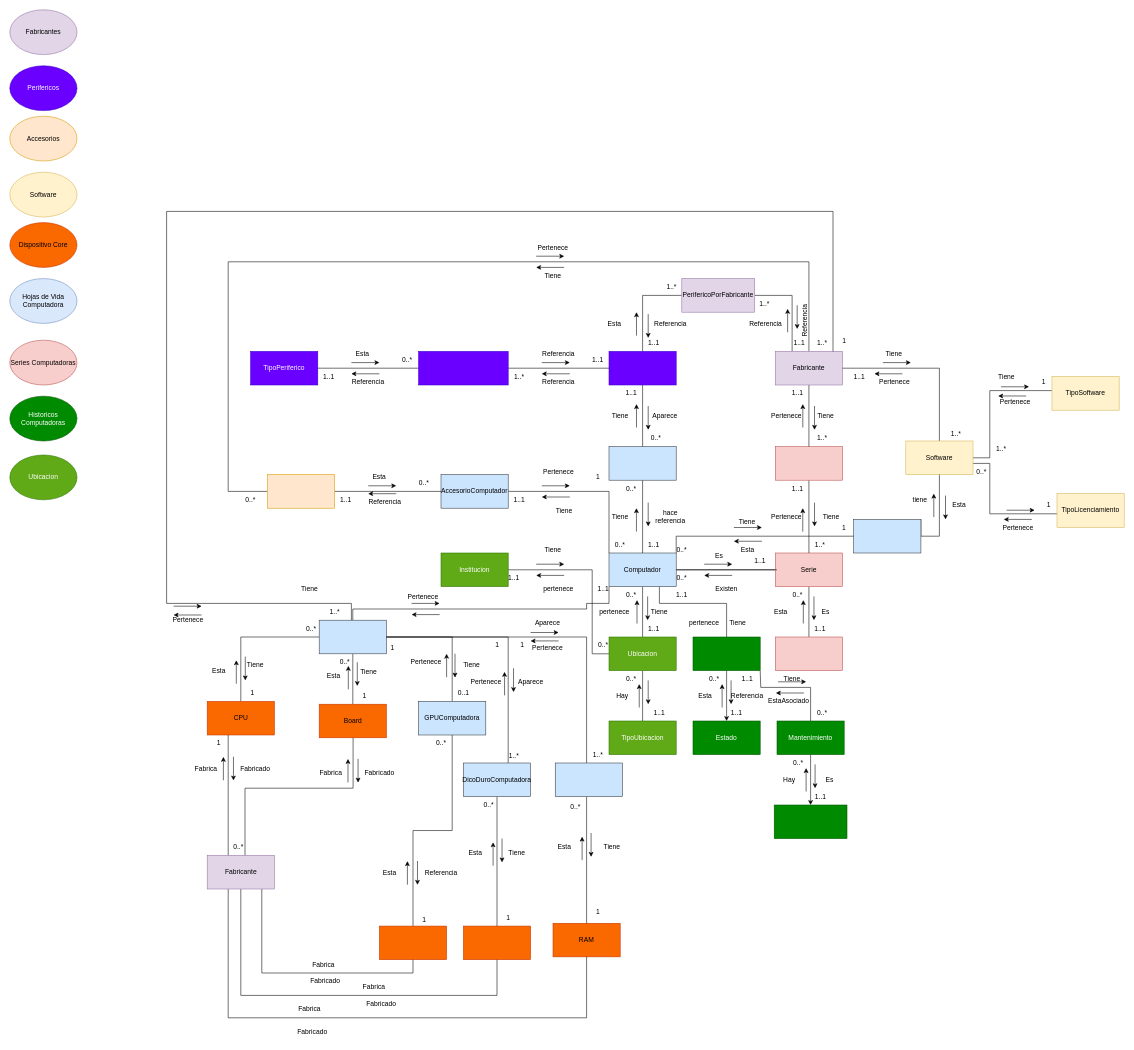
Some shapes in this 1134 by 1050 pixel diagram are drawn without their labels. The shapes that lost their labels are listed below. From the top down, each one's centre as x and y in pixels, then its label:
(463,368): CaracterizacionTipoPeriferico
(642,368): Periferico
(642,463): PerifericoComputador
(809,463): Marca
(301,491): Accesorio
(887,536): SoftwareComputadora
(352,637): DispositivosCore
(726,653): HistoriaEstado
(809,653): TipoComputadora
(588,779): RAMComputadora
(810,821): HistorialMantenimiento
(413,943): GPU
(497,943): DiscoDuro
